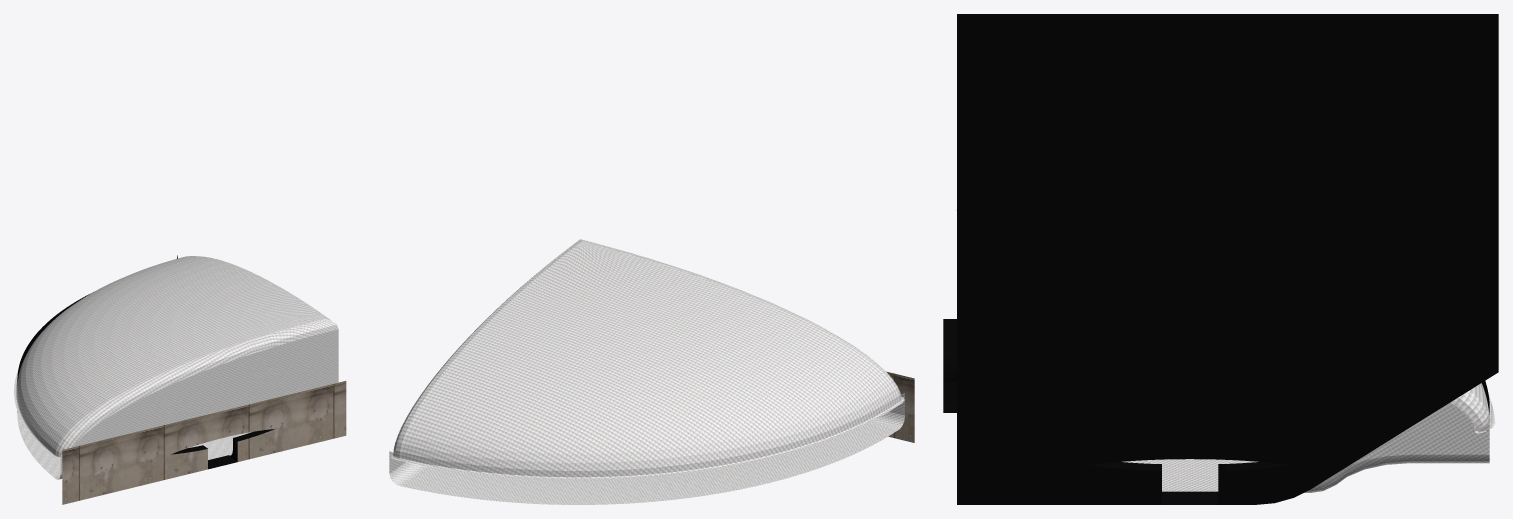
Rendered from padded_room_collision.fbx.
The picture shows the model from 3 angles, left to right: view 1: azimuth 30°, elevation 25°; view 2: azimuth 150°, elevation 25°; view 3: azimuth 270°, elevation 25°; orthographic projection. The views are drawn at different scales.
Visible parts, largest first — view 1: polySurface707; view 2: polySurface707; view 3: polySurface707.
Part boxes in pixels (x1=…): polySurface707: x1=14, y1=255, x2=346, y2=504; polySurface707: x1=389, y1=239, x2=914, y2=504; polySurface707: x1=943, y1=14, x2=1498, y2=504.
Bounding box in the file's own units: 10.2 × 10 × 10.25.
